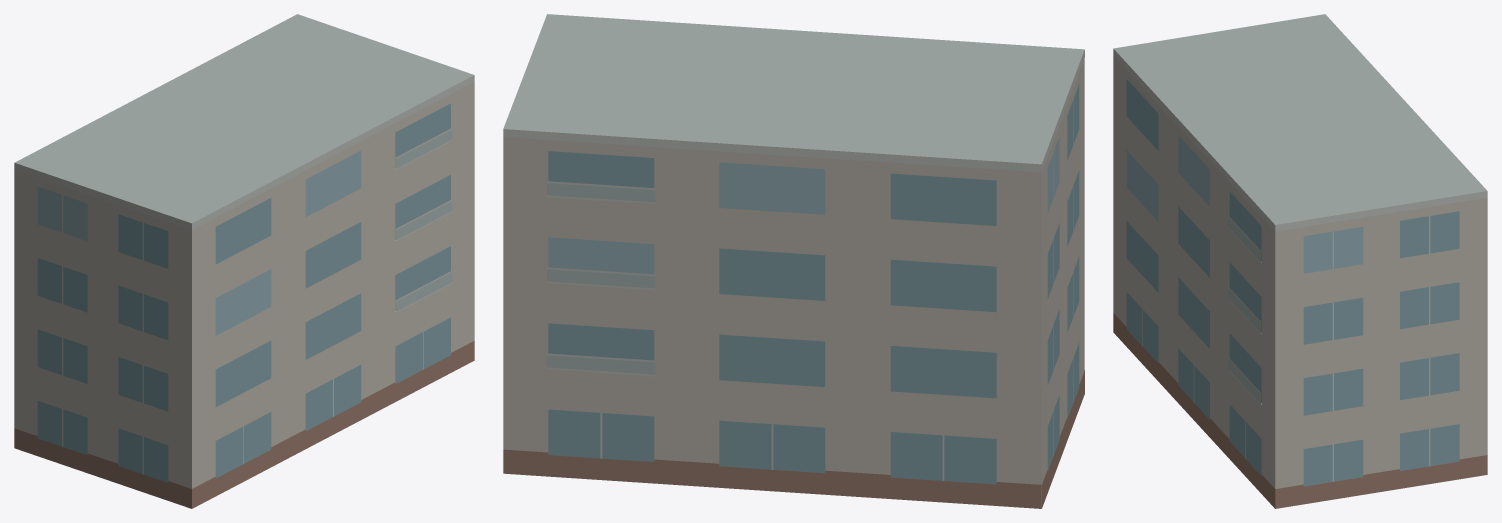
Rendered from survey-upis-32740476.glb.
The picture shows the model from 3 angles, left to right: view 1: azimuth 30°, elevation 25°; view 2: azimuth 150°, elevation 25°; view 3: azimuth 270°, elevation 25°; orthographic projection. The views are drawn at different scales.
Parts seen in each view (by area): view 1: survey-upis-32740476.tmp; view 2: survey-upis-32740476.tmp; view 3: survey-upis-32740476.tmp.
Part boxes in pixels (x1,y1,x2,y2): survey-upis-32740476.tmp: (14, 14, 474, 508); survey-upis-32740476.tmp: (503, 14, 1084, 508); survey-upis-32740476.tmp: (1113, 14, 1487, 508).
Bounding box in the file's own units: 16.75 × 10.5 × 12.56.
